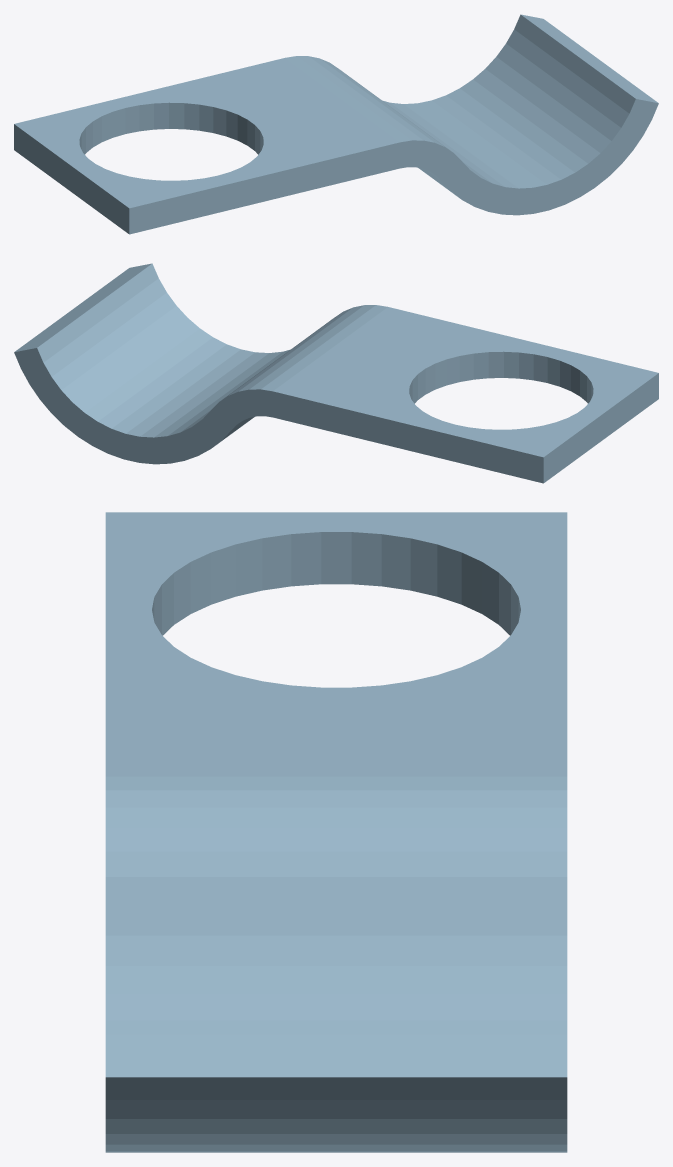
The model's file is case-04_lib00006.glb.
The picture shows the model from 3 angles, top to bottom: view 1: azimuth 30°, elevation 25°; view 2: azimuth 150°, elevation 25°; view 3: azimuth 270°, elevation 25°; orthographic projection. The views are drawn at different scales.
Visible parts, largest first — view 1: lib00006; view 2: lib00006; view 3: lib00006.
Part boxes in pixels (box(x1,y1,x2,y2)): lib00006: box(14, 14, 658, 234); lib00006: box(14, 263, 658, 483); lib00006: box(105, 512, 567, 1152).
Bounding box in the file's own units: 10.6 × 2 × 4.
